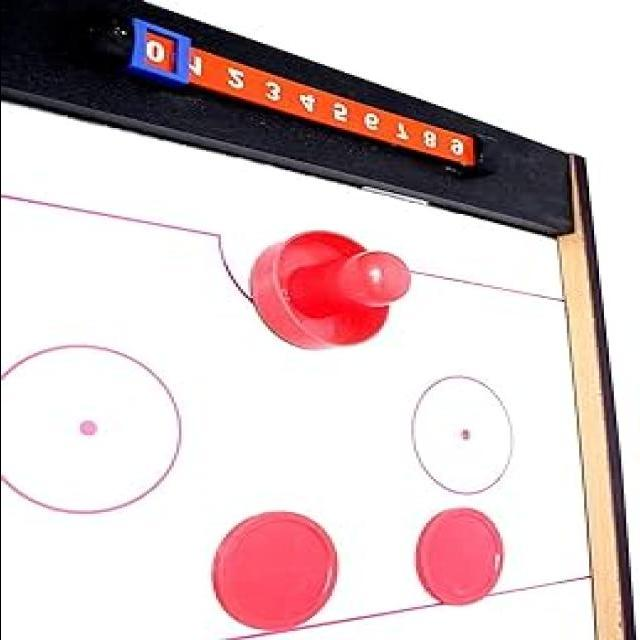chip: (212, 511, 336, 630), (414, 508, 504, 606)
